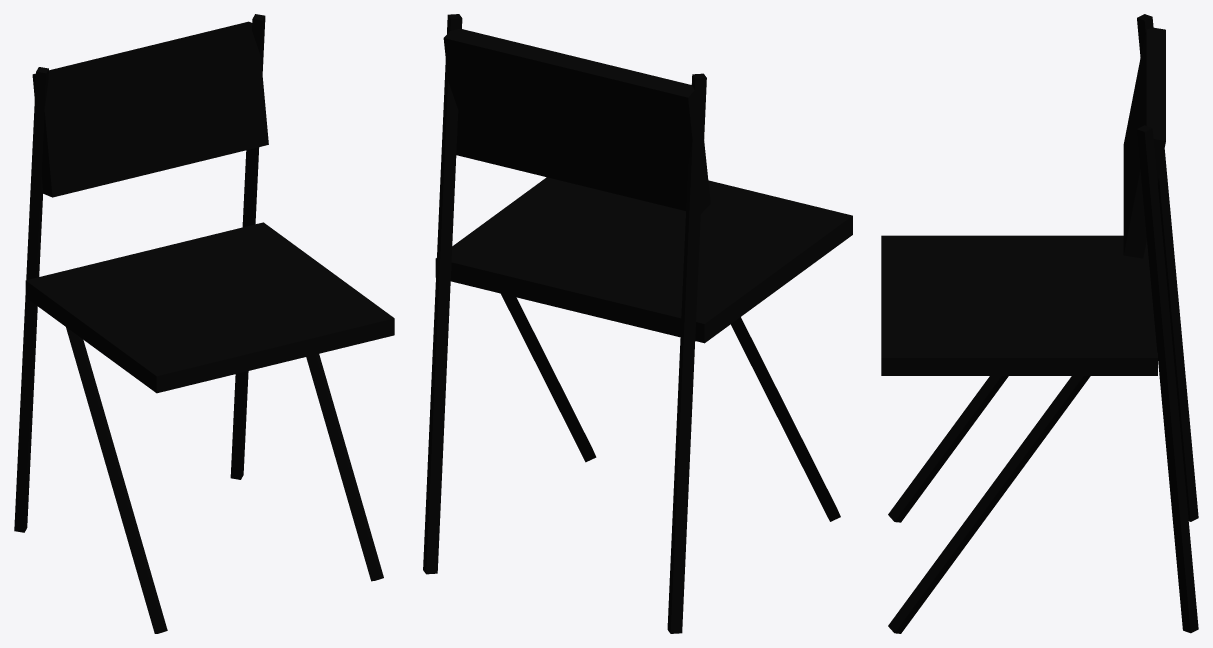
File: SM_chair_folding_wood.fbx
The picture shows the model from 3 angles, left to right: view 1: azimuth 30°, elevation 25°; view 2: azimuth 150°, elevation 25°; view 3: azimuth 270°, elevation 25°; orthographic projection. The views are drawn at different scales.
Parts seen in each view (by area): view 1: chair_folding_wood; view 2: chair_folding_wood; view 3: chair_folding_wood.
Boxes of the visible parts, x1,y1,x2,y2 form: chair_folding_wood: [14, 14, 394, 633]; chair_folding_wood: [423, 14, 852, 633]; chair_folding_wood: [881, 14, 1198, 633].
Size of the model in its own units: 0.44 by 0.8477 by 0.482.
